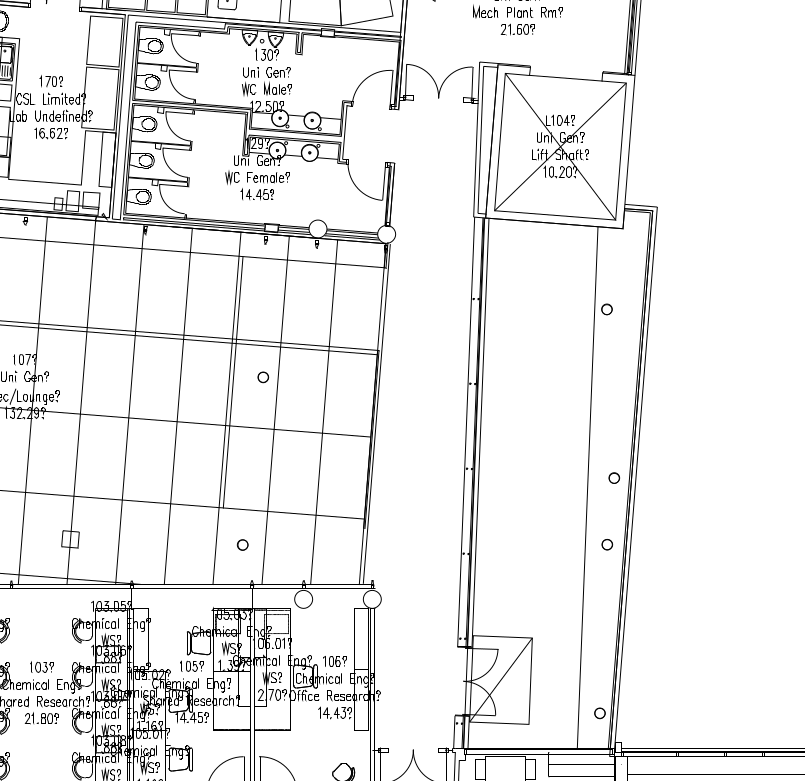door: (468, 643, 512, 718), (403, 60, 475, 104), (377, 743, 452, 781), (344, 161, 386, 202), (351, 66, 393, 107), (155, 183, 195, 218), (154, 145, 194, 180), (156, 108, 196, 143), (158, 68, 198, 103), (162, 31, 202, 66), (256, 750, 298, 781), (205, 750, 247, 781)
